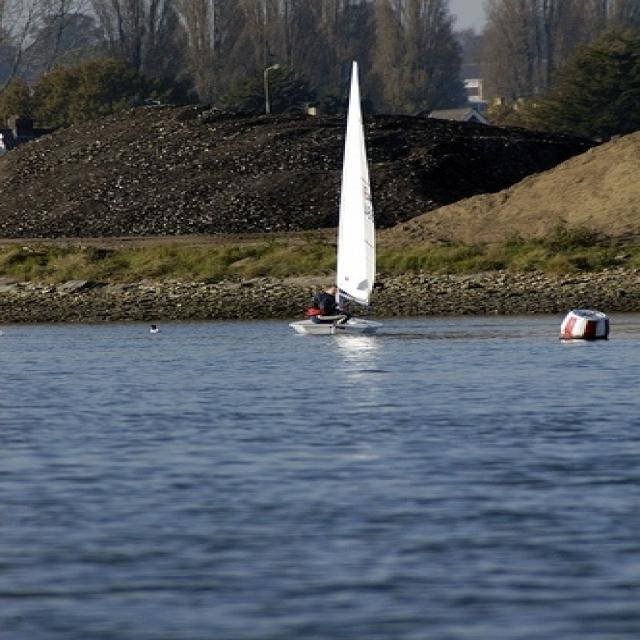Ship: (265, 51, 408, 338)
